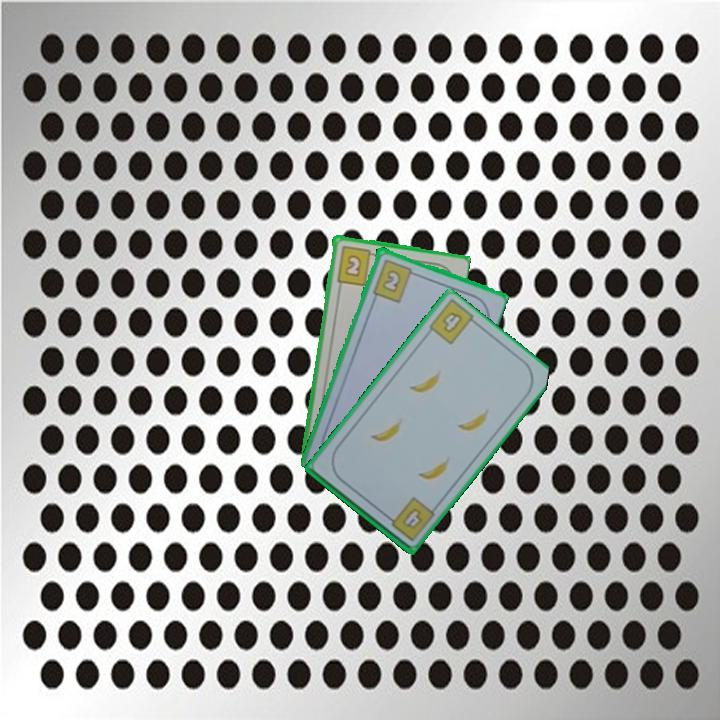2b: (369, 255, 420, 305), (333, 242, 379, 288)
4b: (382, 493, 437, 544), (438, 308, 465, 336)
